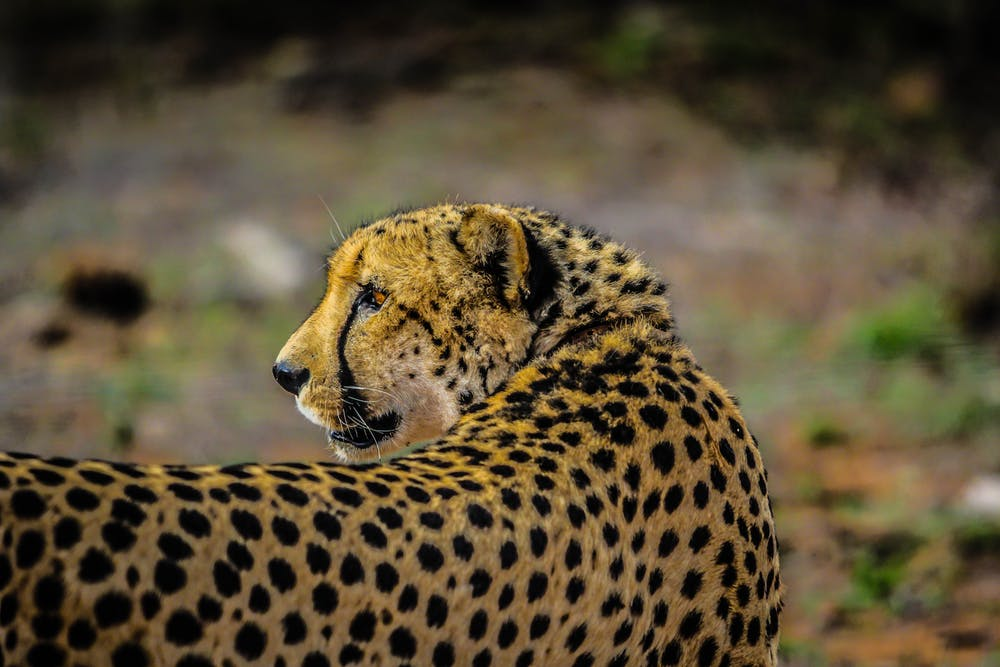cheetah: (240, 194, 622, 470)
